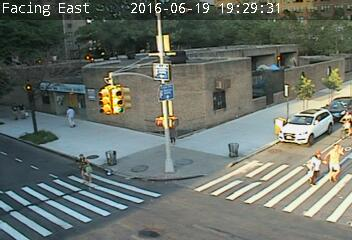neg: (115, 99, 146, 140), (196, 110, 223, 146), (188, 67, 214, 101), (233, 52, 257, 85), (329, 107, 350, 136), (280, 101, 301, 130), (305, 70, 321, 92), (235, 136, 250, 156), (338, 52, 348, 66)
pos: (320, 142, 349, 181), (301, 149, 327, 184), (69, 150, 95, 184), (59, 104, 78, 129), (16, 100, 31, 120), (4, 100, 19, 120)
